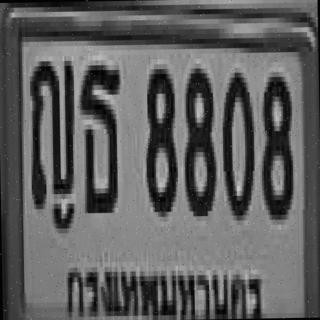A13: (28, 56, 74, 209)
A24: (77, 58, 122, 210)
N00: (220, 67, 253, 216)
N08: (258, 66, 292, 215), (181, 63, 215, 211), (142, 64, 174, 212)
P04: (60, 244, 270, 320)
